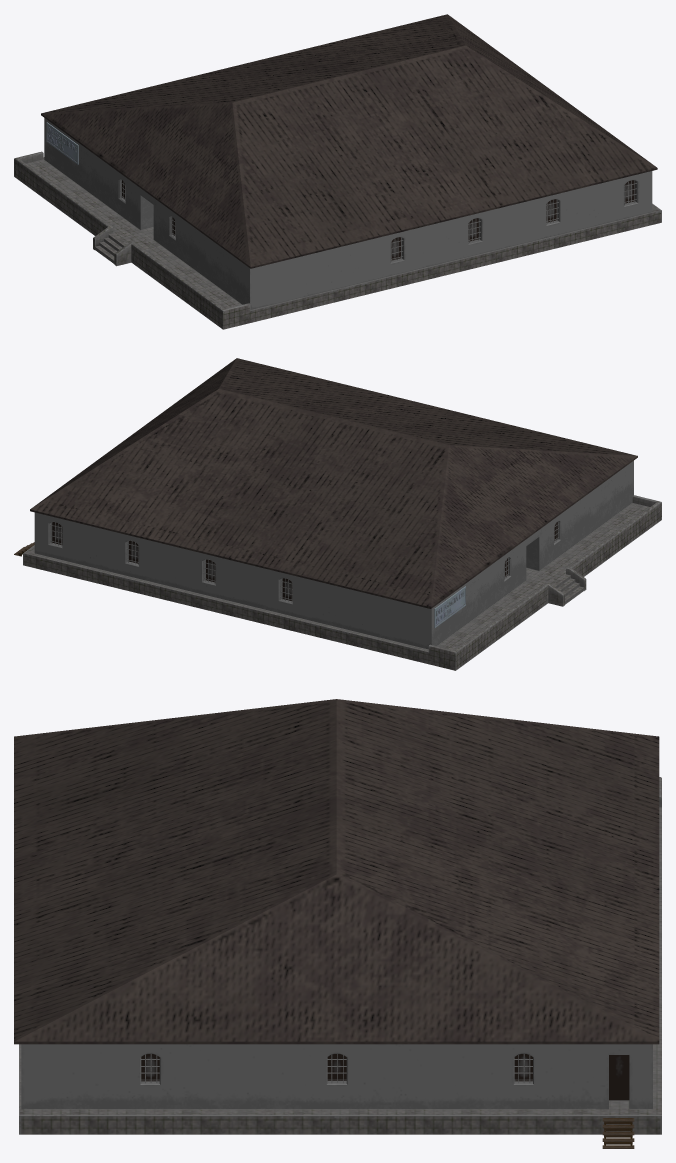
Rendered from Delegacia Final.fbx.
The picture shows the model from 3 angles, top to bottom: view 1: azimuth 30°, elevation 25°; view 2: azimuth 150°, elevation 25°; view 3: azimuth 270°, elevation 25°; orthographic projection. The views are drawn at different scales.
Visible parts, largest first — view 1: Fundação/escada; view 2: Fundação/escada; view 3: Fundação/escada.
Boxes of the visible parts, x1,y1,x2,y2 form: Fundação/escada: (14,14,661,329); Fundação/escada: (14,358,661,670); Fundação/escada: (14,699,661,1148).
Size of the model in its own units: 3055 by 773 by 2362.
